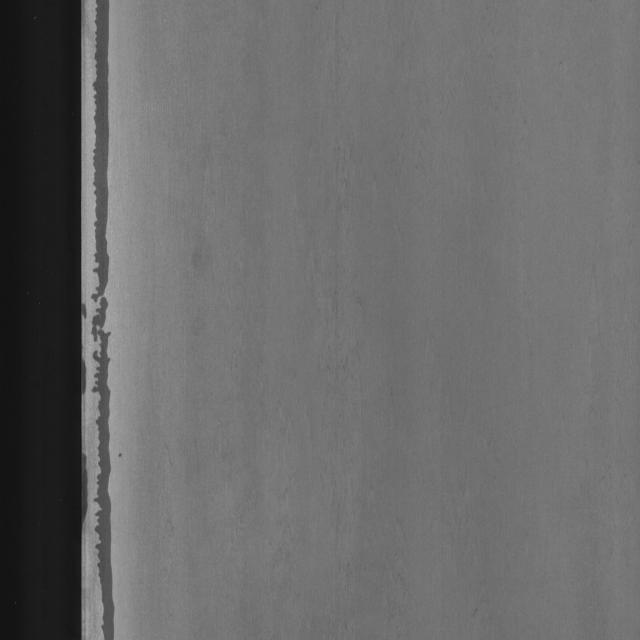welding_line: (89, 0, 144, 631)
